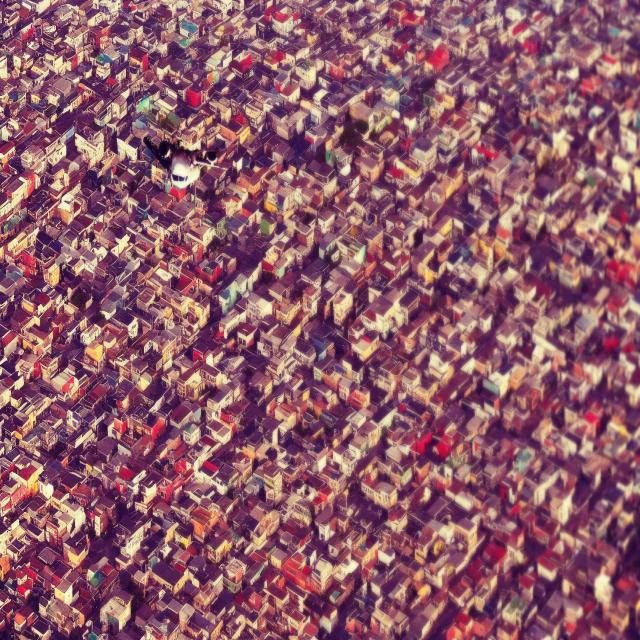airplane: (143, 132, 219, 194)
